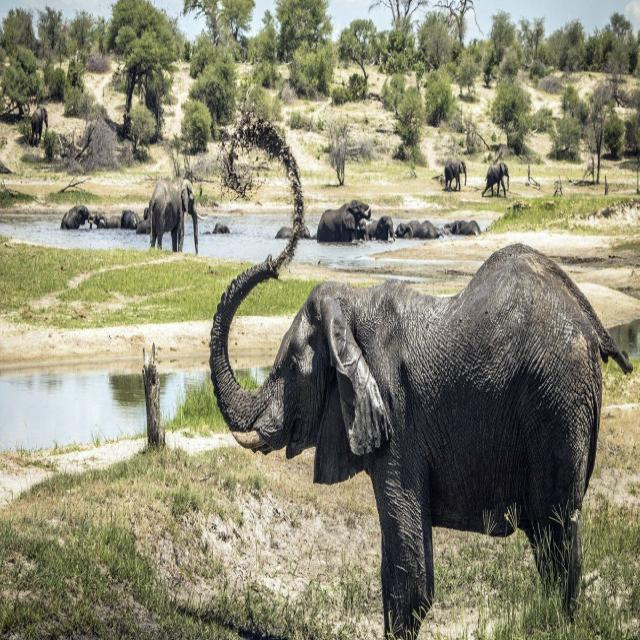elephant: (210, 244, 633, 637), (149, 178, 199, 252), (483, 162, 509, 196), (445, 159, 467, 190)
